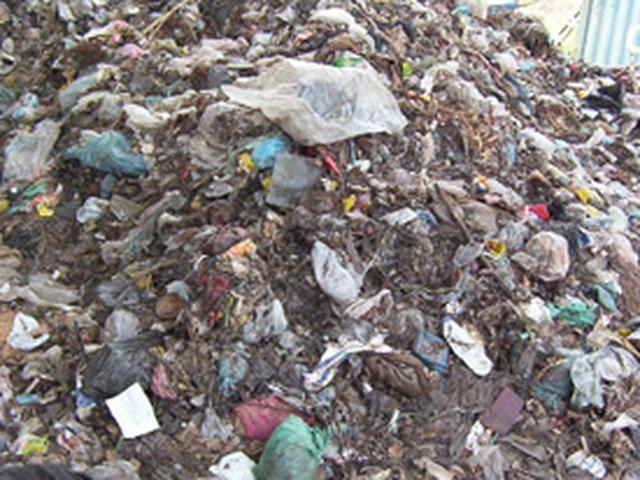garbage: (34, 32, 546, 456)
